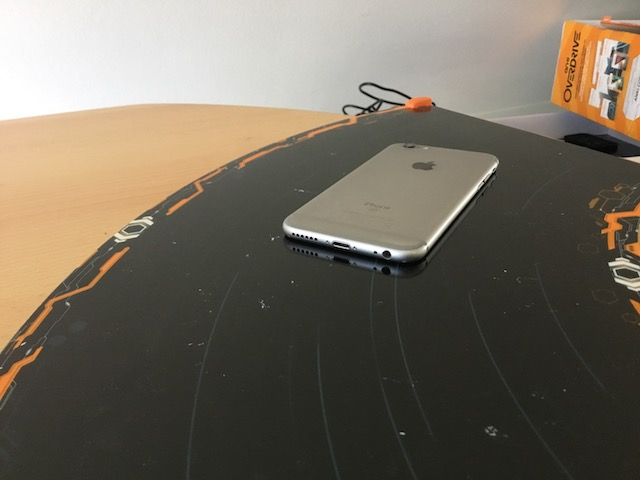phone: (279, 138, 503, 269)
